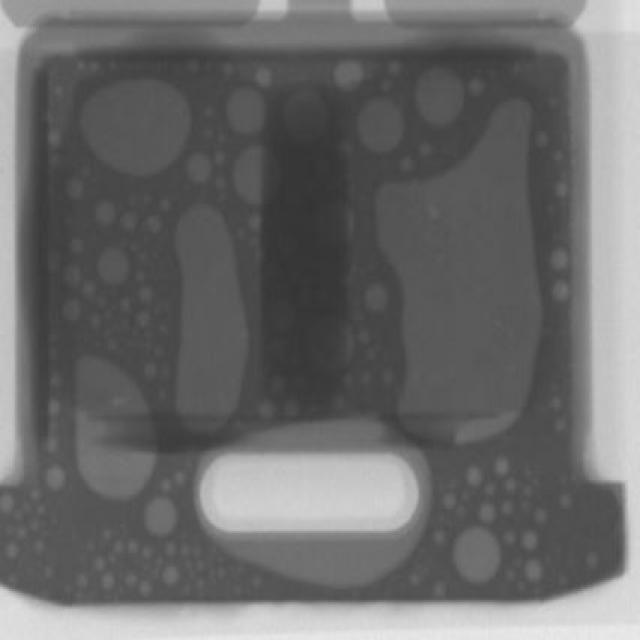component: (0, 55, 625, 615)
void: (380, 102, 545, 446), (194, 425, 430, 591), (176, 206, 248, 433), (72, 348, 153, 495), (77, 79, 191, 183), (454, 522, 502, 586), (413, 65, 465, 123), (231, 148, 283, 206), (283, 85, 332, 141), (355, 101, 405, 149), (312, 319, 355, 371), (227, 84, 266, 134), (319, 202, 355, 243), (143, 497, 178, 534), (98, 248, 128, 284), (332, 60, 362, 92), (187, 151, 213, 184), (272, 302, 293, 328), (42, 416, 58, 449), (367, 285, 386, 311), (45, 466, 67, 488), (95, 200, 114, 224), (65, 298, 80, 323), (466, 466, 483, 487), (254, 67, 271, 86), (67, 178, 82, 199), (163, 564, 178, 585), (272, 340, 287, 361), (150, 555, 163, 579), (121, 213, 138, 231), (480, 504, 495, 524), (552, 248, 567, 268), (64, 265, 78, 286), (524, 532, 540, 549), (136, 311, 151, 328), (527, 562, 541, 580), (554, 281, 568, 299), (260, 401, 275, 417), (75, 571, 89, 588), (147, 214, 160, 232), (386, 62, 399, 80), (0, 490, 11, 511), (289, 399, 303, 415), (342, 374, 354, 392), (102, 572, 115, 588), (49, 398, 60, 416), (496, 458, 507, 476), (71, 239, 84, 254), (6, 543, 19, 558), (442, 493, 455, 508), (433, 582, 445, 598), (251, 214, 261, 233), (274, 378, 285, 395), (295, 377, 309, 390), (536, 130, 546, 147), (359, 330, 372, 343), (469, 80, 481, 94), (48, 130, 59, 145), (145, 363, 156, 377), (140, 582, 151, 596), (554, 416, 565, 430), (560, 496, 572, 508), (83, 280, 94, 293), (140, 288, 151, 301), (38, 540, 49, 553), (108, 338, 120, 349), (121, 300, 132, 312), (339, 144, 351, 155), (506, 480, 516, 493), (589, 552, 598, 566), (502, 502, 511, 516), (536, 508, 545, 522), (556, 184, 567, 195), (435, 531, 445, 543), (31, 488, 41, 499), (165, 544, 176, 554), (362, 371, 372, 382), (17, 526, 26, 538), (115, 541, 124, 553), (505, 531, 514, 543), (127, 571, 135, 584), (183, 582, 191, 595), (92, 314, 101, 325), (158, 323, 169, 332), (421, 144, 432, 153), (96, 556, 103, 570), (162, 365, 170, 377), (216, 175, 223, 188), (401, 159, 410, 169), (238, 230, 247, 240), (129, 542, 137, 553), (381, 80, 389, 91), (385, 370, 393, 381), (177, 473, 184, 485), (552, 396, 559, 408), (525, 465, 531, 479), (410, 575, 419, 584), (161, 200, 169, 210), (37, 506, 44, 517), (558, 474, 565, 485), (97, 296, 105, 305), (143, 548, 151, 557), (219, 565, 225, 577), (224, 63, 232, 72), (485, 485, 493, 494), (554, 150, 562, 159), (336, 397, 344, 406), (14, 508, 21, 518), (518, 580, 524, 591), (507, 570, 513, 581), (140, 251, 147, 260), (181, 545, 188, 554), (205, 109, 212, 118), (46, 568, 53, 576), (161, 482, 169, 489), (217, 153, 222, 164), (253, 576, 259, 585), (9, 576, 18, 582), (87, 541, 92, 551), (197, 561, 204, 568), (55, 86, 61, 94), (109, 554, 115, 562), (159, 391, 165, 399), (525, 486, 531, 494), (157, 346, 162, 355), (197, 580, 204, 586), (206, 131, 213, 137), (560, 575, 566, 582), (193, 547, 201, 552), (7, 526, 12, 534), (31, 522, 36, 530), (185, 562, 191, 567), (104, 531, 109, 537), (65, 586, 71, 591), (138, 273, 144, 278), (145, 564, 149, 569)
